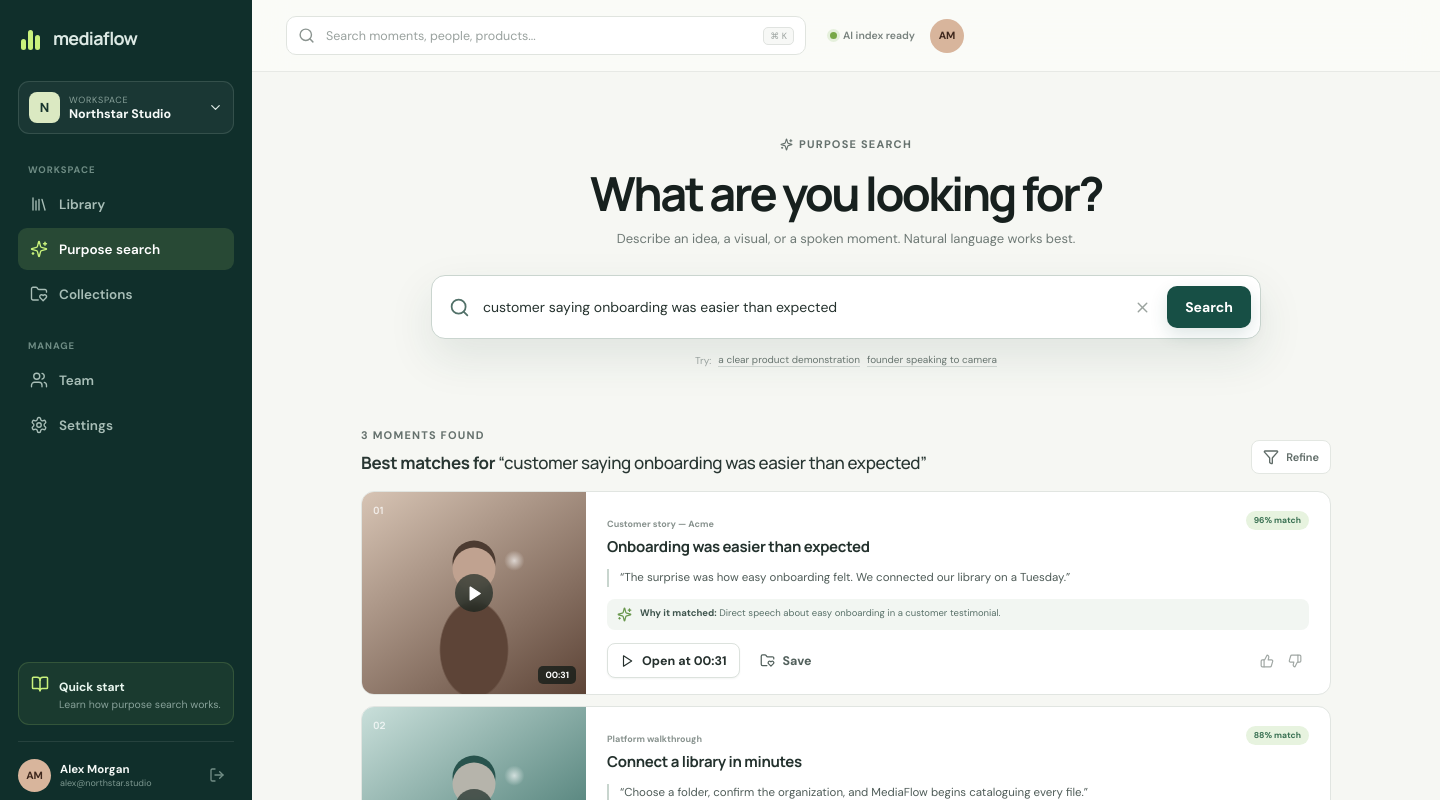
Test case: MediaFlow frontend › opens a search result at its media asset
Click the link "Open at 00:31" at [673, 661], box [607,643,740,678]
(page scrolled)
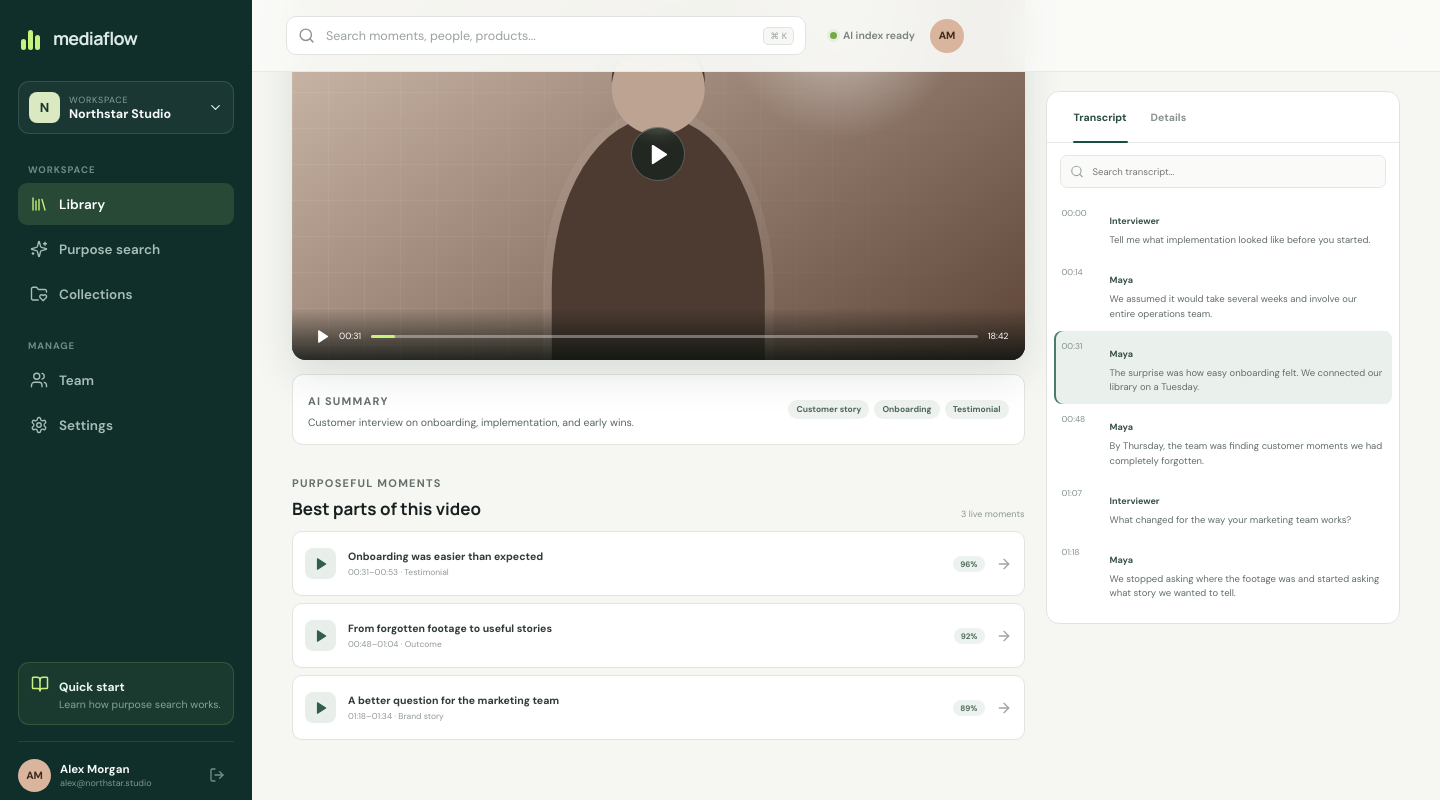
expect the heading "Best parts of this video" is shown: met, box [292,498,481,520]
